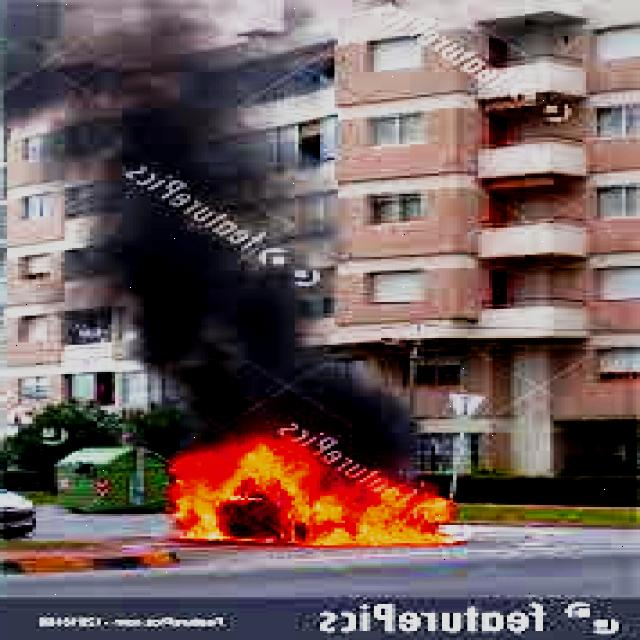api: (152, 418, 465, 551)
